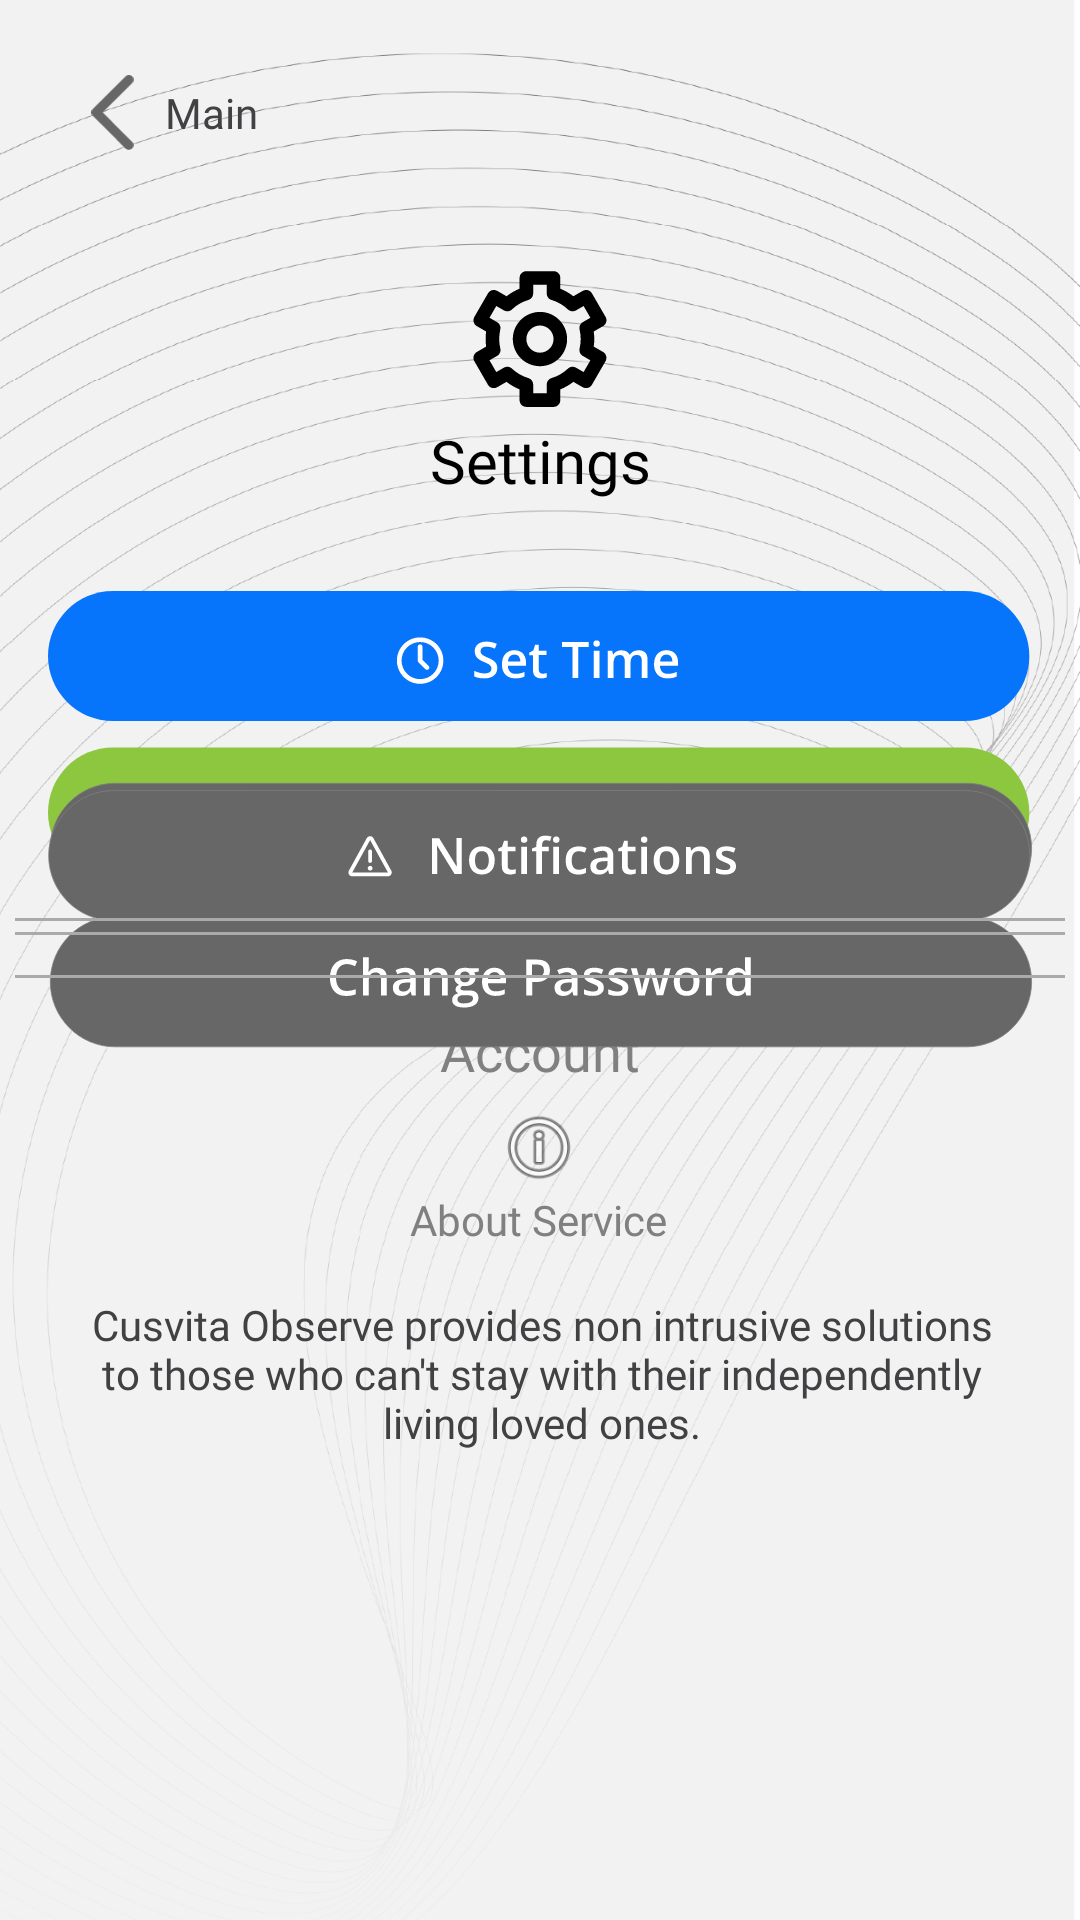

Screen size 1080 x 1920. Icon name, then its box in pixels as region(x1, y1, x2, y2):
info details: region(496, 1104, 584, 1188)
left arrow: region(75, 75, 150, 150)
